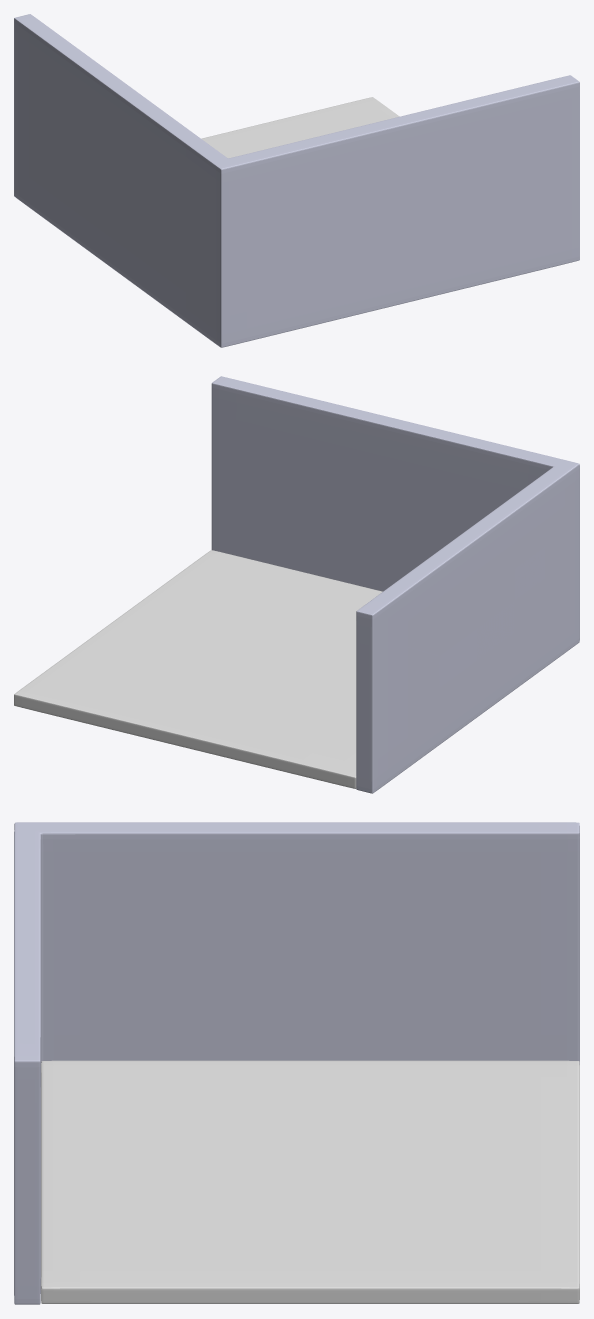
The model's file is base_dorm.fbx.
3 renders of one model, top to bottom at view 1: azimuth 30°, elevation 25°; view 2: azimuth 150°, elevation 25°; view 3: azimuth 270°, elevation 25°, orthographic. The views are drawn at different scales.
Visible parts, largest first — view 1: Cube.035, Cube.036; view 2: Cube.035, Cube.036; view 3: Cube.035, Cube.036.
Part boxes in pixels (left/top/right/bottom): Cube.035: left=14, top=14, right=579, bottom=347; Cube.036: left=201, top=97, right=399, bottom=158; Cube.035: left=211, top=376, right=579, bottom=793; Cube.036: left=14, top=550, right=382, bottom=788; Cube.035: left=14, top=822, right=579, bottom=1304; Cube.036: left=41, top=1060, right=579, bottom=1303.
Size of the model in its own units: 2100 by 1000 by 2100.
